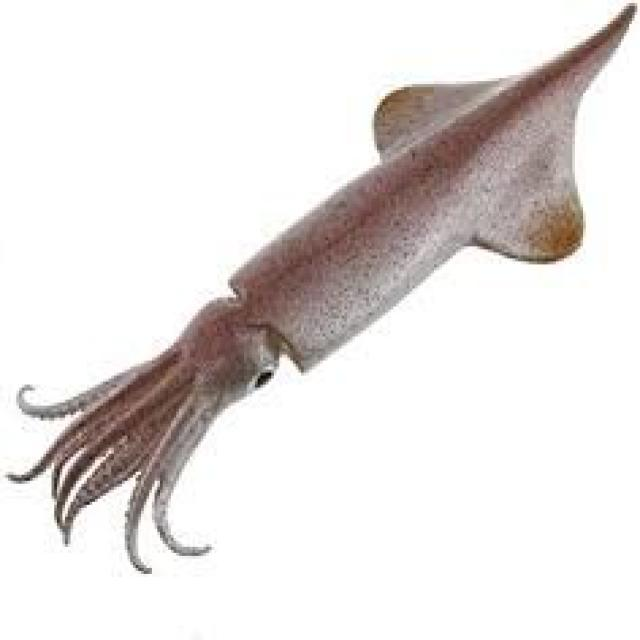squid: (8, 3, 632, 571)
